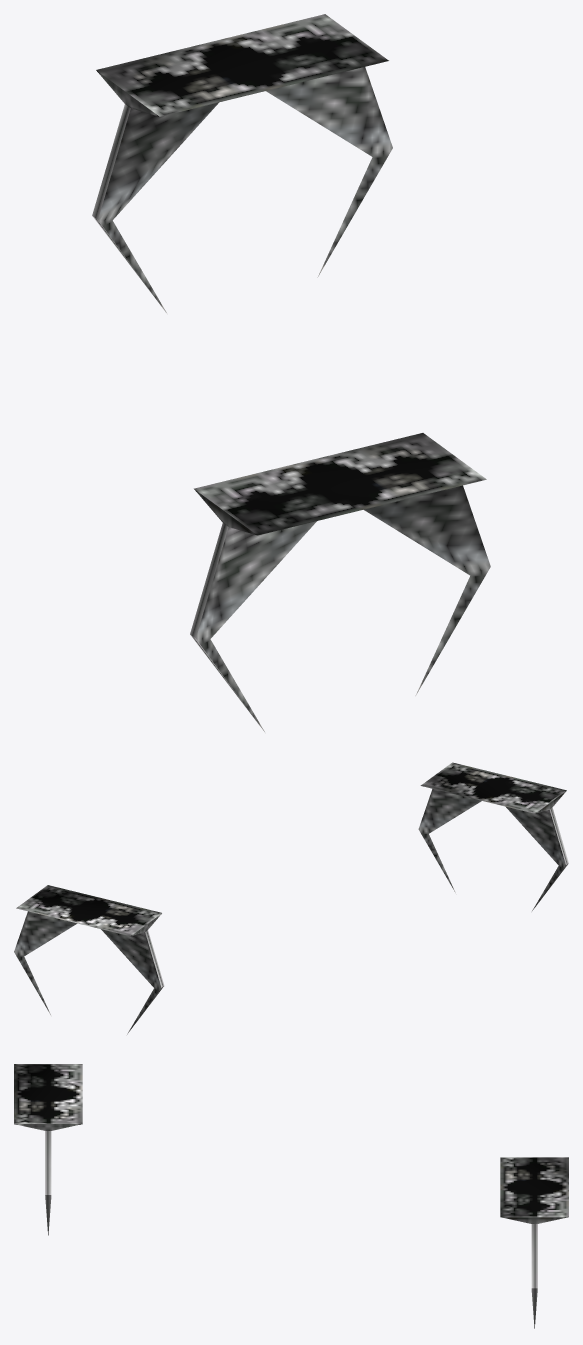
Rendered from star_destroyer_hangar_detail_l3.fbx.
The picture shows the model from 3 angles, top to bottom: view 1: azimuth 30°, elevation 25°; view 2: azimuth 150°, elevation 25°; view 3: azimuth 270°, elevation 25°; orthographic projection. The views are drawn at different scales.
Parts seen in each view (by area): view 1: mesh_node; view 2: mesh_node; view 3: mesh_node.
Part boxes in pixels (x1,y1,x2,y2): mesh_node: (92,14,490,731); mesh_node: (14,762,568,1034); mesh_node: (14,1064,568,1328).
Bounding box in the file's own units: 119 × 40.37 × 163.
1 material, 1 textured.
